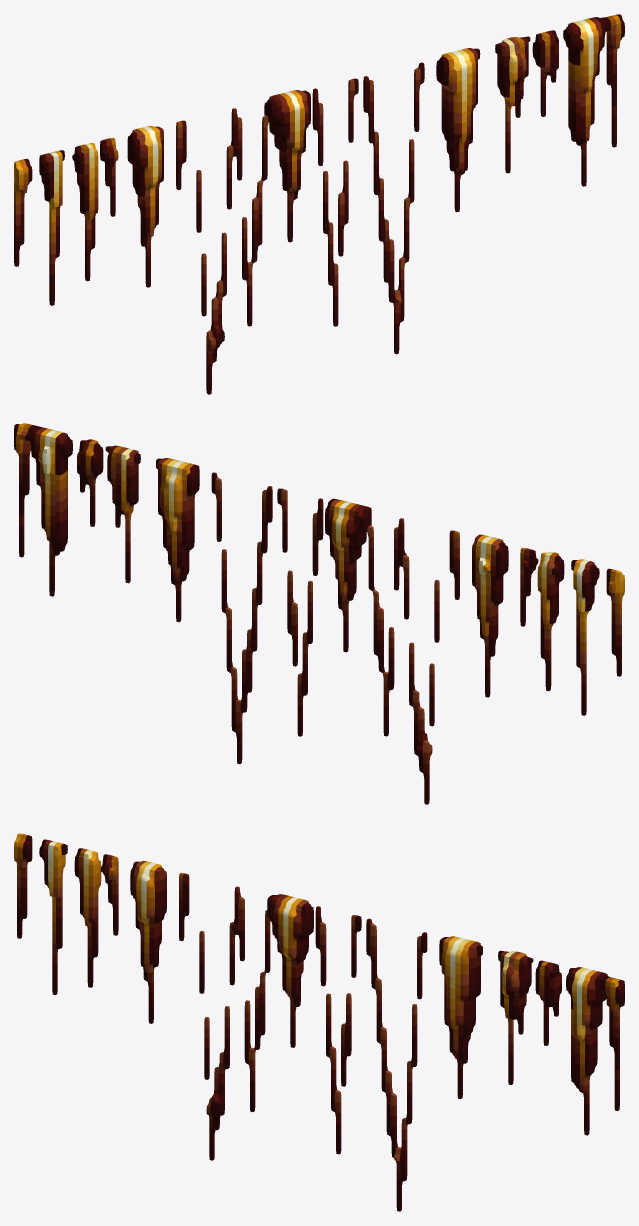
Rendered from Fight_107_3_17.obj.
The picture shows the model from 3 angles, top to bottom: view 1: azimuth 30°, elevation 25°; view 2: azimuth 150°, elevation 25°; view 3: azimuth 330°, elevation 25°; orthographic projection.
Size of the model in its own units: 12 by 5.38 by 0.5.
1 material, 1 textured.
